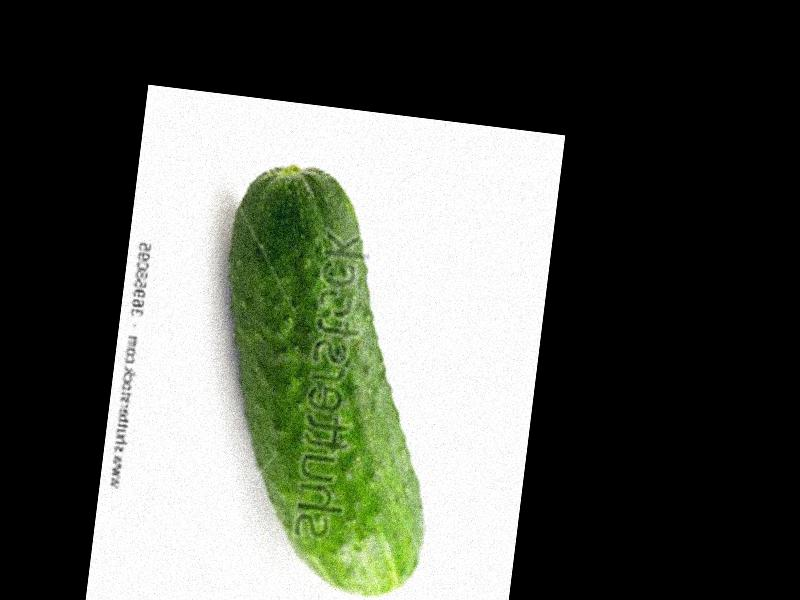Cucumber: (189, 160, 467, 600)
